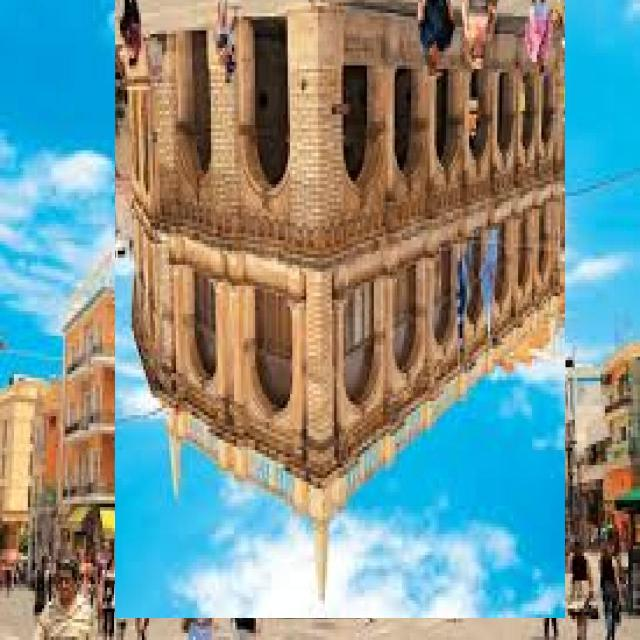Loggia: (117, 1, 567, 619)
